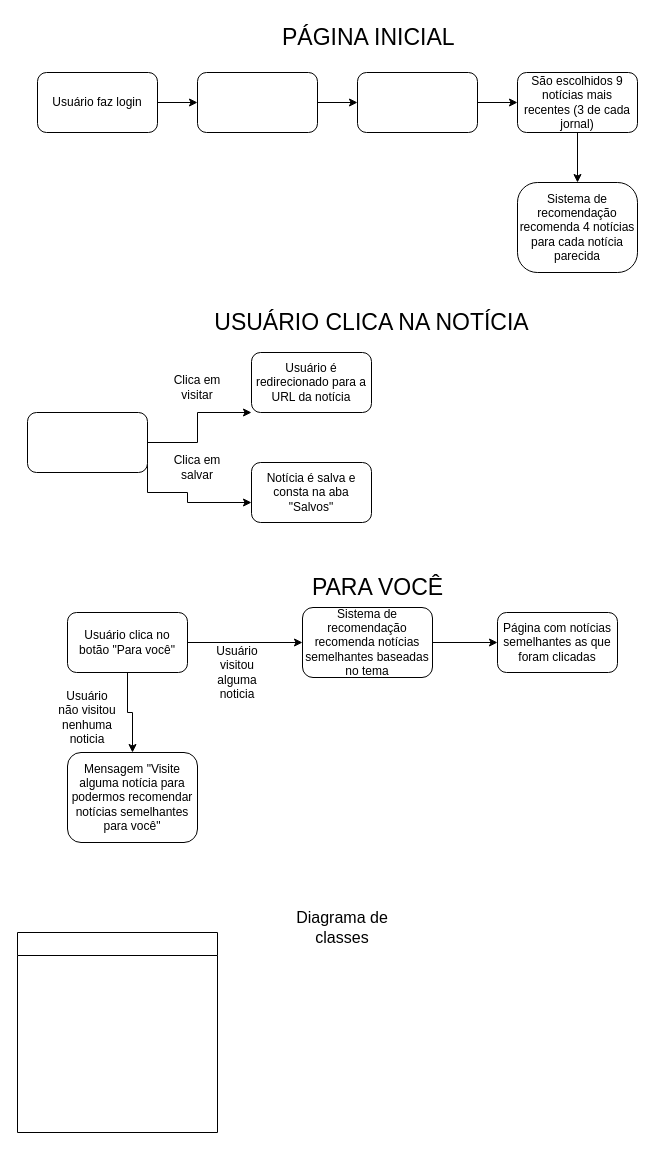
This 655x1150 diagram has some shape labels left out. Each missing label, with the centre of its shape:
"Crawler pega notícias" belongs at point (417, 102).
"Página home é aberta" belongs at point (257, 102).
"Sistema de recomendação" belongs at point (117, 1032).
"Usuário clica em uma notícia" belongs at point (87, 442).
